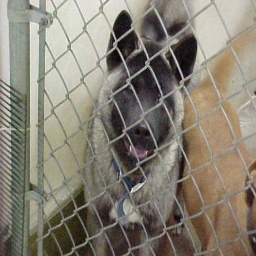dog: (78, 7, 211, 243)
